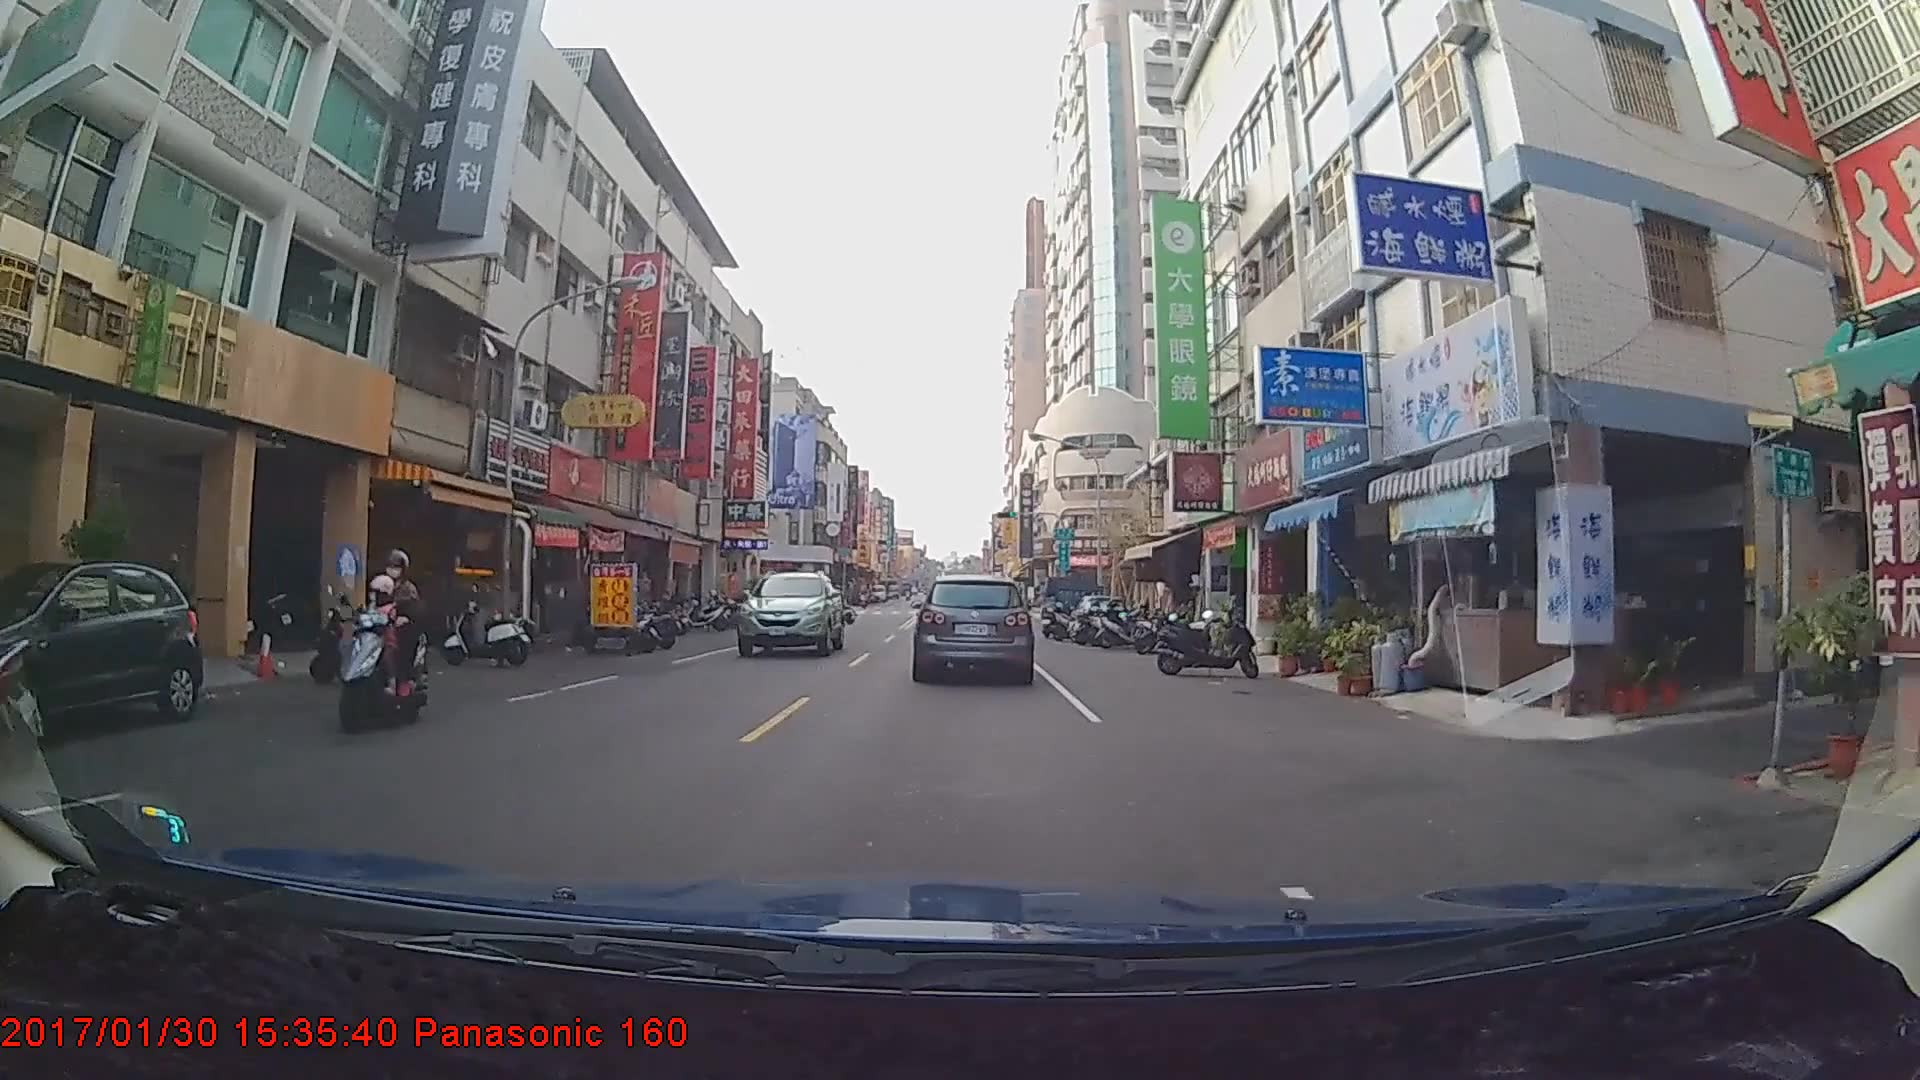rider: (326, 545, 426, 732)
vehicle: (914, 575, 1031, 680), (735, 568, 847, 658), (1041, 573, 1107, 632)
